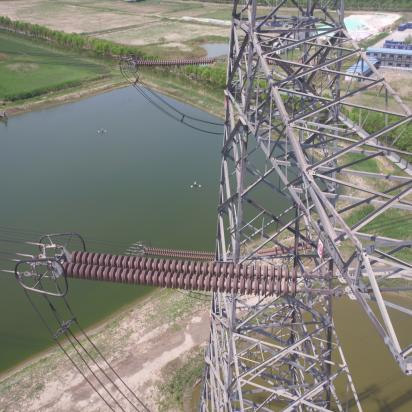insulator: (57, 249, 324, 299), (143, 247, 216, 261), (134, 57, 221, 67)
